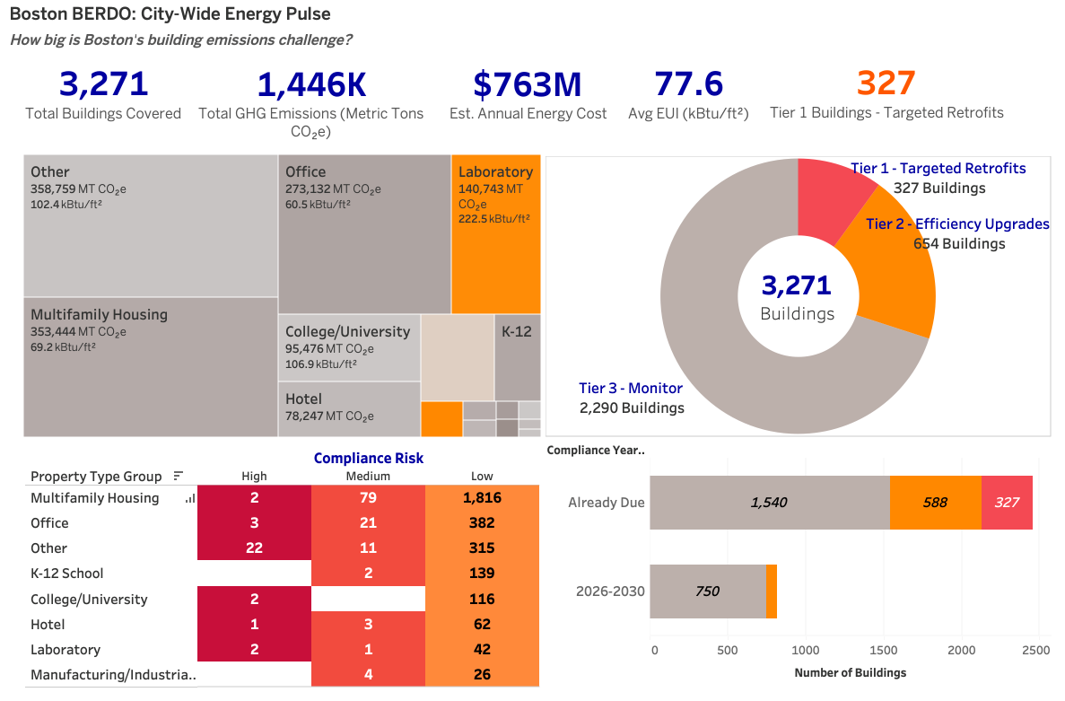

This screenshot's page, from the dashboard's own definition file:
{"tool":"tableau","page":{"name":"Dashboard 1: Boston BERDO: City-Wide Energy Pulse","canvas":[1200,800],"ordinal":0},"visuals":[{"type":"title","box":[8,8,1184,31]},{"type":"text","box":[8,39,1184,28]},{"type":"worksheet","title":"WS1c: KPI - Total Annual Energy Cost","mark":"Automatic","box":[487,74,212,73]},{"type":"worksheet","title":"WS1e: KPI - Tier 1 Building Count","mark":"Automatic","box":[857,74,272,70]},{"type":"worksheet","title":"WS1a: KPI - Total Buildings","mark":"Automatic","box":[7,75,226,70]},{"type":"worksheet","title":"WS1b: KPI - Total GHG Emissions","mark":"Automatic","box":[218,75,267,92]},{"type":"worksheet","title":"WS1d: KPI - Average EUI","mark":"Automatic","box":[685,75,174,70]},{"type":"worksheet","title":"WS2: Treemap - GHG Emissions by Property Type","mark":"Automatic","box":[26,176,585,323]},{"type":"worksheet","title":"WS3: Donut Chart - Tier Distribution","mark":"Pie","cols":["Calculation_3481594385453076","Calculation_3481594385125395"],"box":[612,182,564,313]},{"type":"worksheet","title":"WS5: Compliance Timeline - Stacked Bar","mark":"Bar","rows":["Calculation_3481594409844759"],"cols":["BERDO ID"],"box":[612,498,564,275]},{"type":"worksheet","title":"WS4: Compliance Risk Heatmap","mark":"Square","rows":["Property Type Group"],"cols":["Compliance Risk"],"box":[32,508,574,266]}]}

Visuals, with their boxes in screenshot pixels (x1, y1, x2, y2), scaled from the page's 1200x800 canvas onto the 1065x701 screenshot:
title: bbox=(7, 7, 1058, 34)
text: bbox=(7, 34, 1058, 59)
"WS1c: KPI - Total Annual Energy Cost" worksheet: bbox=(432, 65, 620, 129)
"WS1e: KPI - Tier 1 Building Count" worksheet: bbox=(761, 65, 1002, 126)
"WS1a: KPI - Total Buildings" worksheet: bbox=(6, 66, 207, 127)
"WS1b: KPI - Total GHG Emissions" worksheet: bbox=(193, 66, 430, 146)
"WS1d: KPI - Average EUI" worksheet: bbox=(608, 66, 762, 127)
"WS2: Treemap - GHG Emissions by Property Type" worksheet: bbox=(23, 154, 542, 437)
"WS3: Donut Chart - Tier Distribution" worksheet (Pie marks): bbox=(543, 159, 1044, 434)
"WS5: Compliance Timeline - Stacked Bar" worksheet (Bar marks): bbox=(543, 436, 1044, 677)
"WS4: Compliance Risk Heatmap" worksheet (Square marks): bbox=(28, 445, 538, 678)
